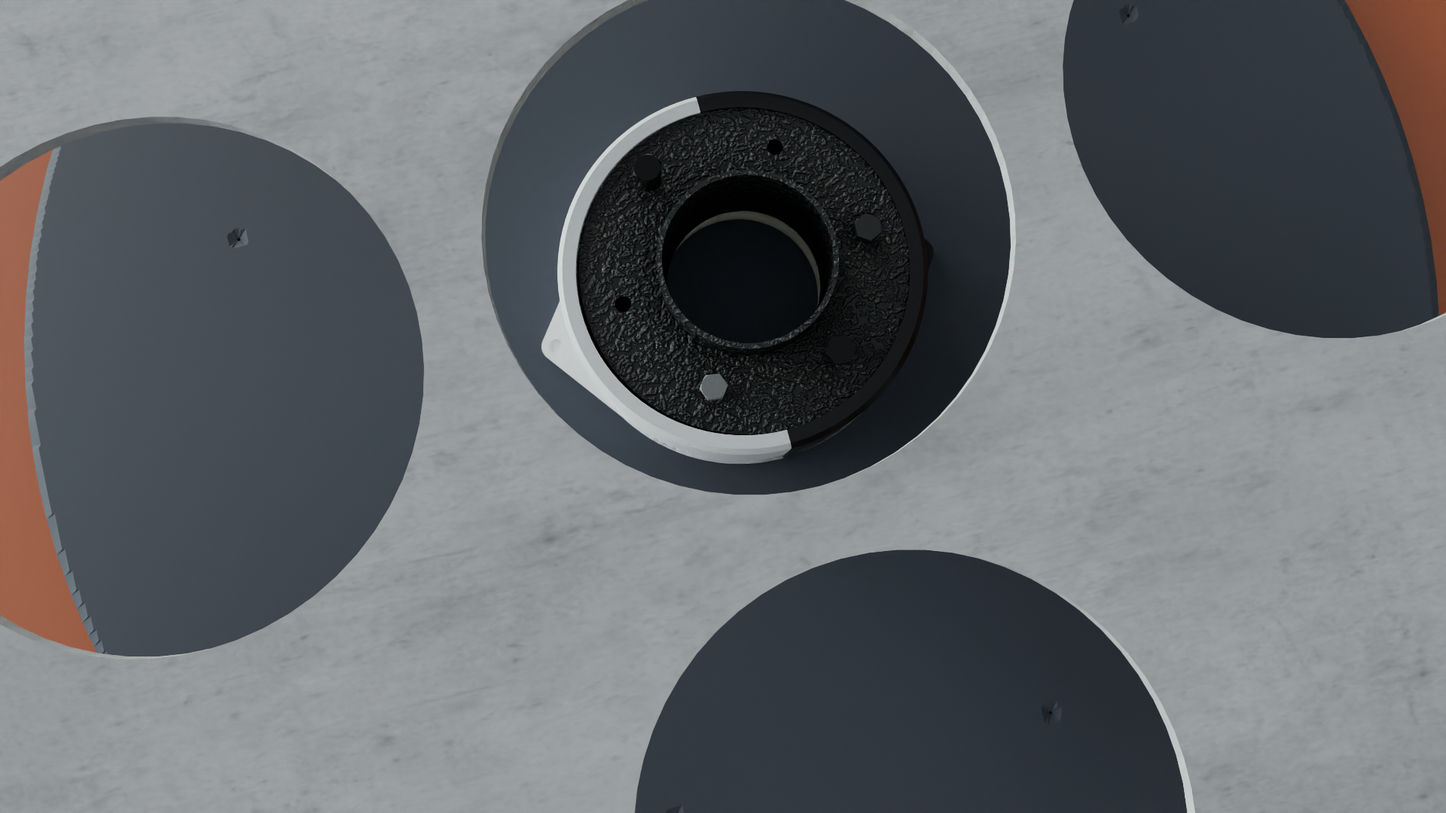bolt: (633, 154, 661, 184), (826, 336, 856, 364), (855, 213, 882, 241), (700, 373, 728, 400)
